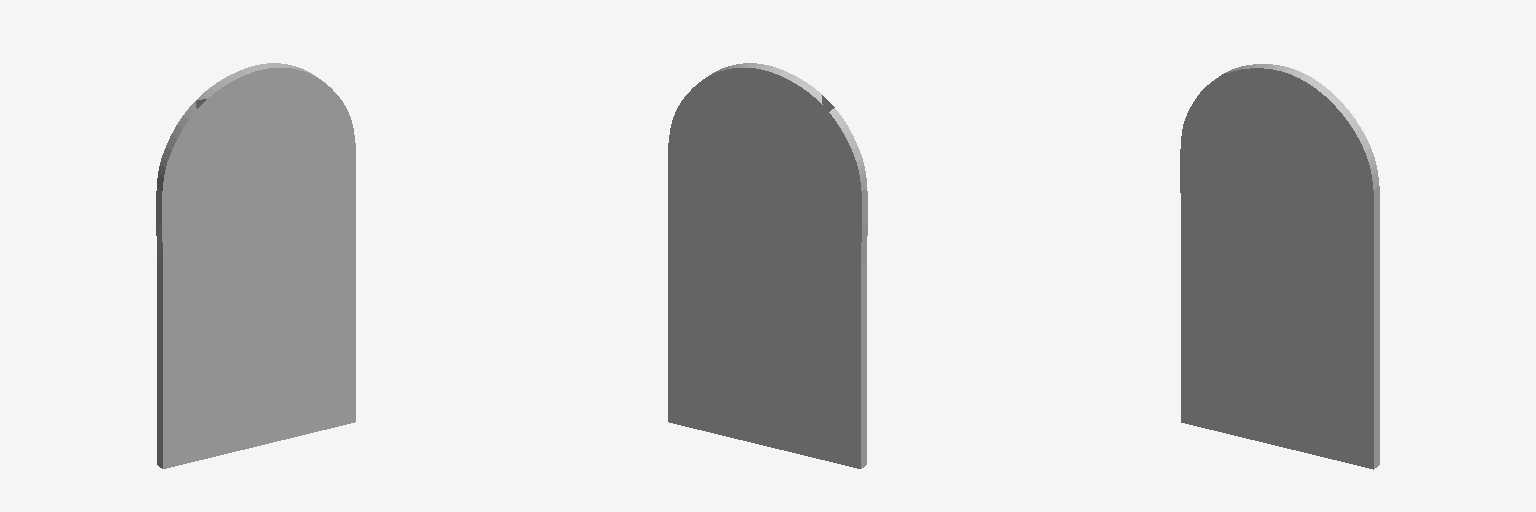
Rendered from Medieval door.obj.
3 views of the same model, side by side, from view 1: azimuth 30°, elevation 25°; view 2: azimuth 150°, elevation 25°; view 3: azimuth 330°, elevation 25° (orthographic).
Visible parts, largest first — view 1: Privy_Council_Door.002; view 2: Privy_Council_Door.002; view 3: Privy_Council_Door.002.
Boxes of the visible parts, x1,y1,x2,y2 form: Privy_Council_Door.002: [156, 63, 355, 468]; Privy_Council_Door.002: [668, 63, 867, 468]; Privy_Council_Door.002: [1180, 64, 1379, 469].
Bounding box in the file's own units: 93.78 × 174 × 5.